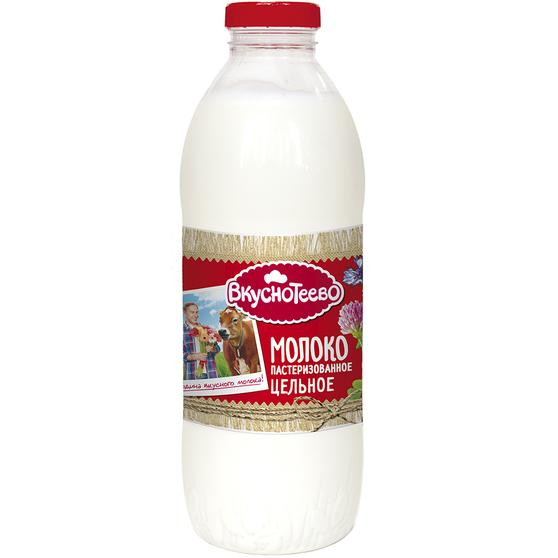banana: (170, 1, 382, 548)
